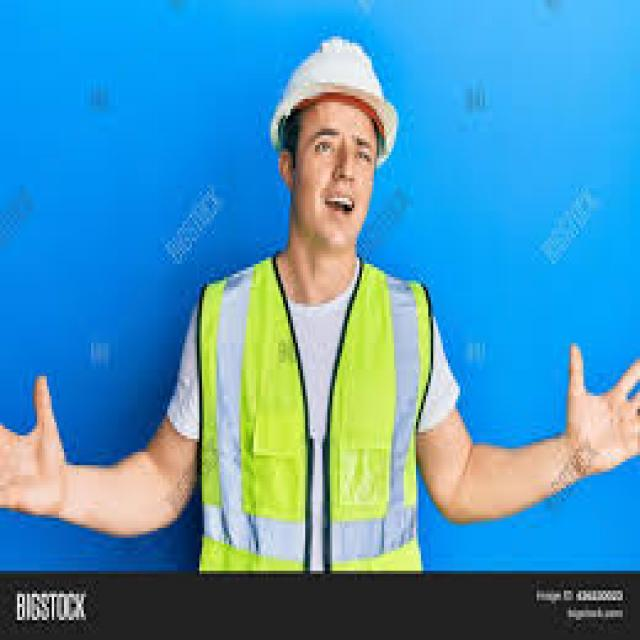Reflective-Jacket: (190, 257, 438, 574)
Safety-Helmet: (268, 33, 399, 155)
